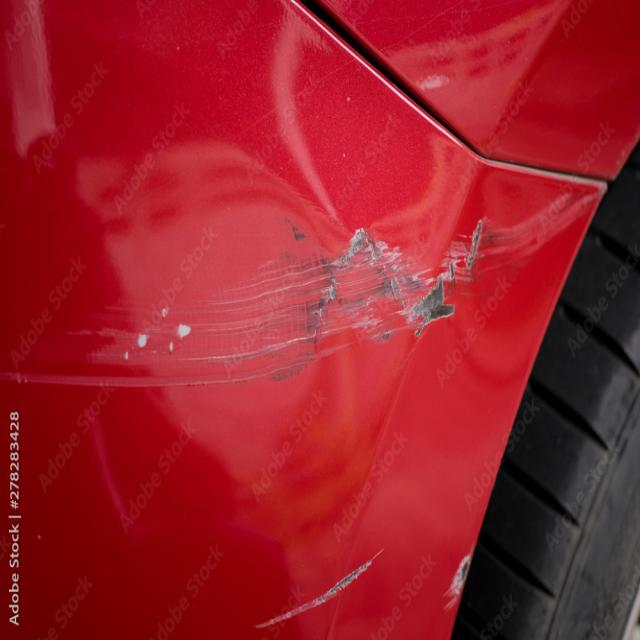scratch: (0, 187, 594, 394), (249, 547, 392, 632), (440, 540, 477, 614), (412, 68, 455, 95)
